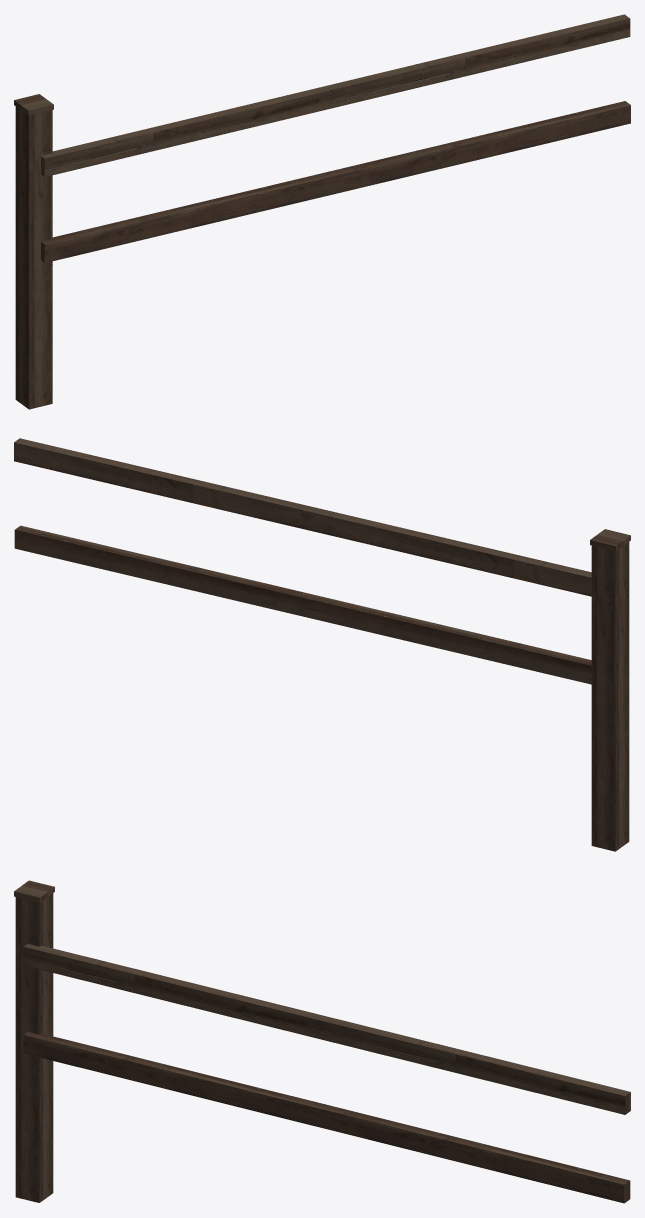
Rendered from FenceRail.gltf.
3 views of the same model, one above another, from view 1: azimuth 30°, elevation 25°; view 2: azimuth 150°, elevation 25°; view 3: azimuth 330°, elevation 25° (orthographic). The views are drawn at different scales.
Visible parts, largest first — view 1: FenceRail; view 2: FenceRail; view 3: FenceRail.
Part boxes in pixels (x1=…): FenceRail: x1=14, y1=14, x2=630, y2=409; FenceRail: x1=14, y1=438, x2=630, y2=851; FenceRail: x1=14, y1=880, x2=630, y2=1203.
Size of the model in its own units: 3.06 by 1.46 by 0.16.
1 material, 1 textured.
